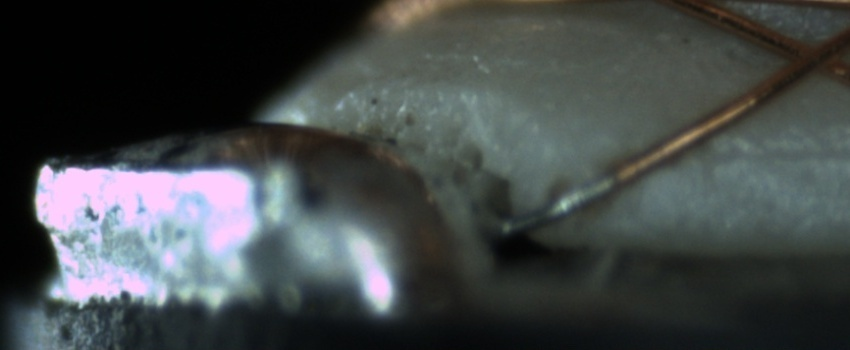CL: (769, 26, 846, 85)
DL: (691, 119, 848, 186)
TS: (494, 170, 615, 238)
TTCW: (495, 153, 641, 240)
